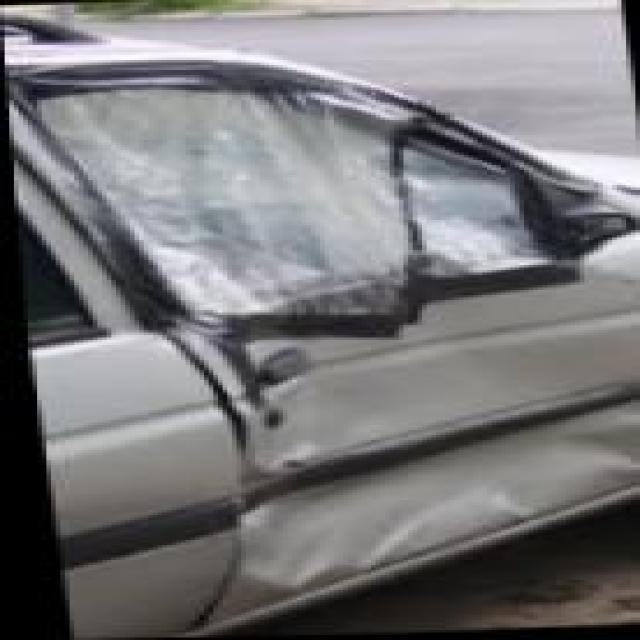Door: (136, 216, 640, 607)
